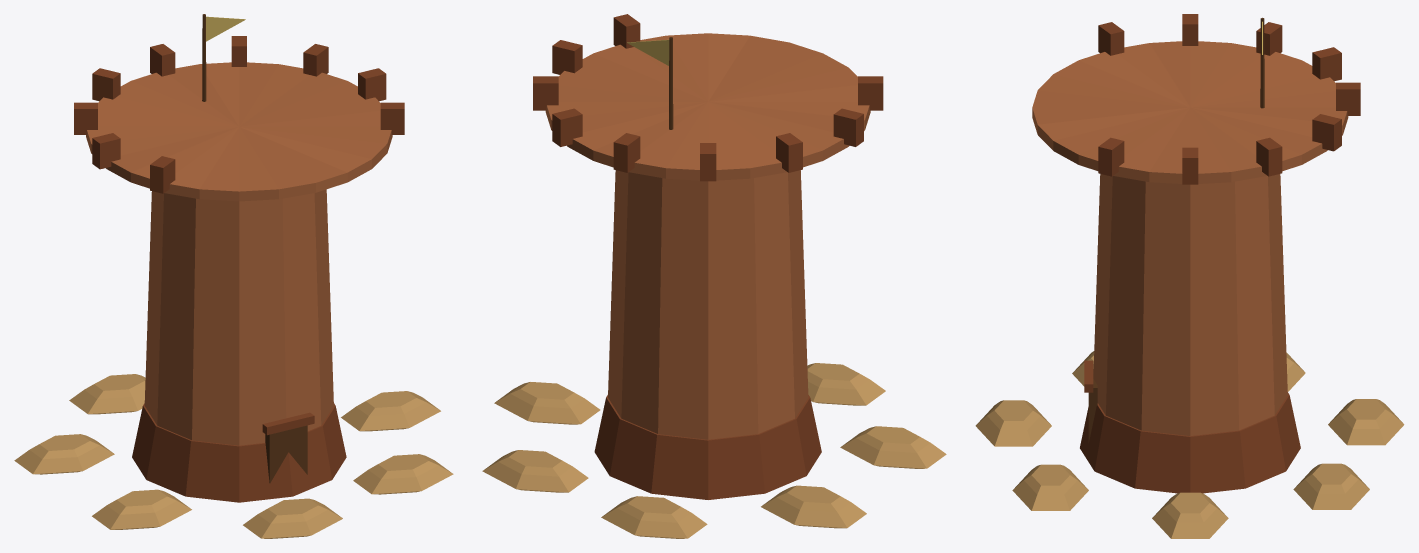
The model's file is tower_canyon.glb.
3 views of the same model, side by side, from view 1: azimuth 30°, elevation 25°; view 2: azimuth 150°, elevation 25°; view 3: azimuth 270°, elevation 25° (orthographic). The views are drawn at different scales.
Visible parts, largest first — view 1: tower_canyon; view 2: tower_canyon; view 3: tower_canyon.
Part boxes in pixels (left/top/right/bottom): tower_canyon: left=14, top=14, right=453, bottom=538; tower_canyon: left=482, top=14, right=946, bottom=538; tower_canyon: left=975, top=14, right=1404, bottom=538.
Size of the model in its own units: 19.56 by 21 by 19.01.
